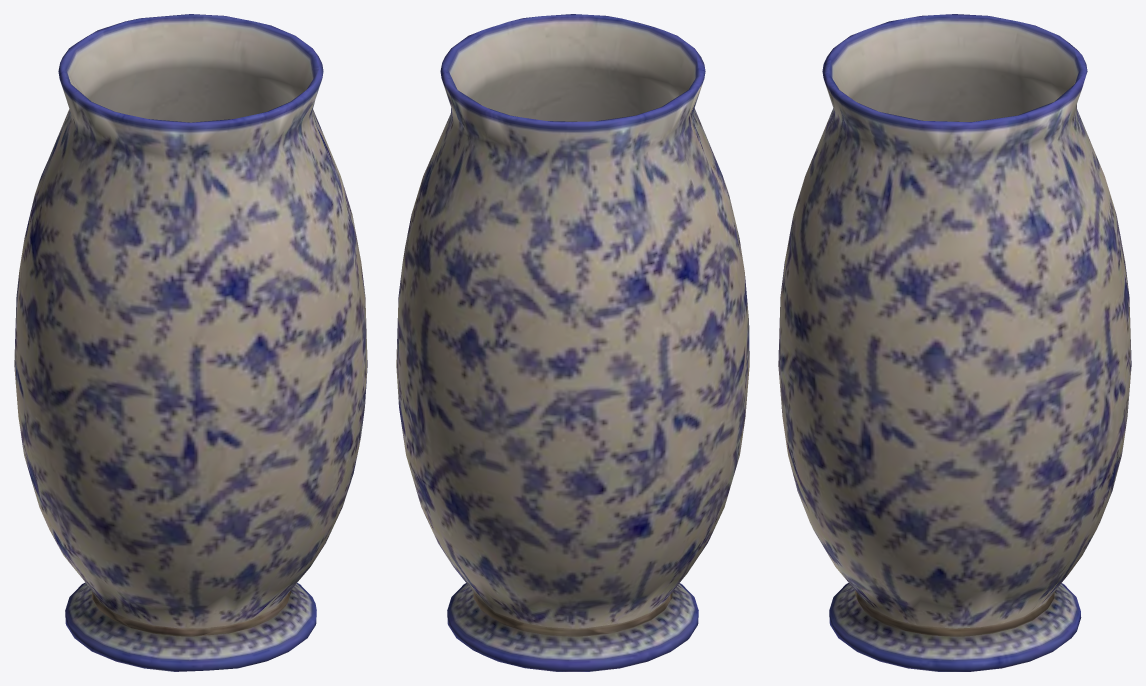
Rendered from antique_ceramic_vase_01.glb.
3 renders of one model, left to right at view 1: azimuth 30°, elevation 25°; view 2: azimuth 150°, elevation 25°; view 3: azimuth 270°, elevation 25°, orthographic.
Visible parts, largest first — view 1: antique_ceramic_vase_01; view 2: antique_ceramic_vase_01; view 3: antique_ceramic_vase_01.
Boxes of the visible parts, <box> form: antique_ceramic_vase_01: <box>14,14,367,671</box>; antique_ceramic_vase_01: <box>396,14,749,671</box>; antique_ceramic_vase_01: <box>778,14,1131,671</box>.
Size of the model in its own units: 0.2549 by 0.4393 by 0.2549.
1 material, 1 textured.
